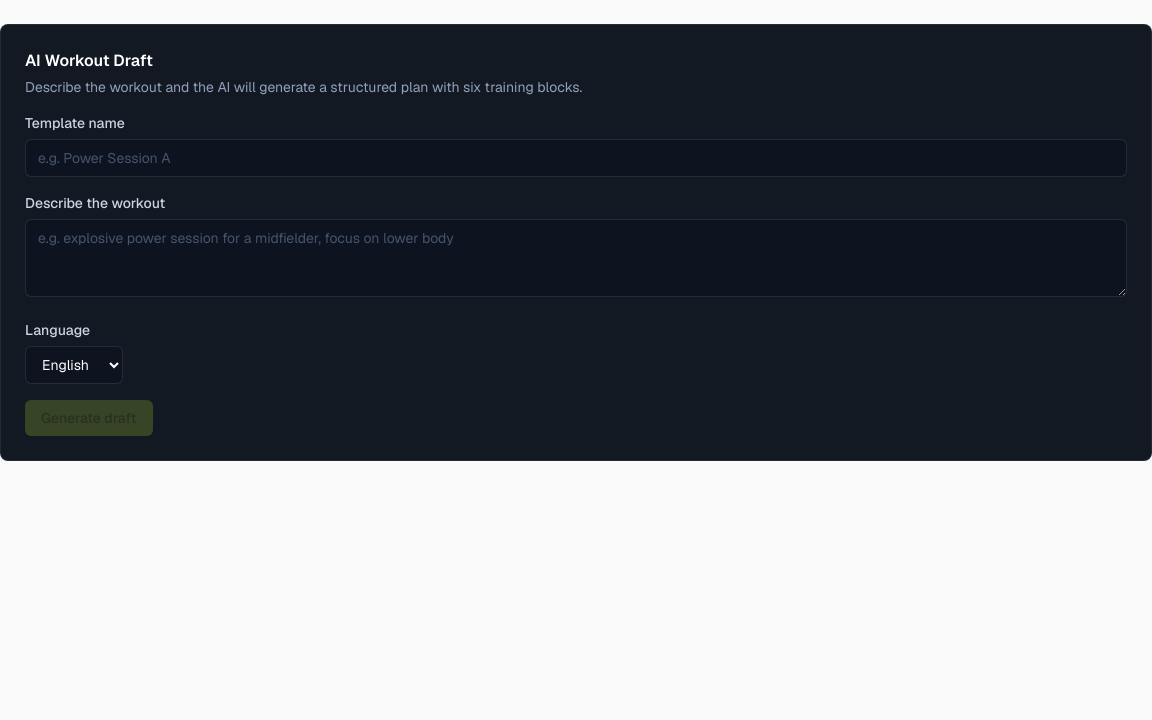
AiDraftPanel — draft happy path › shows a Confirm & Save button after a draft is generated
The image size is (1152, 720).
In the field labelled "Template name": (576, 158) [25,139,1127,177], type "Power Session A"
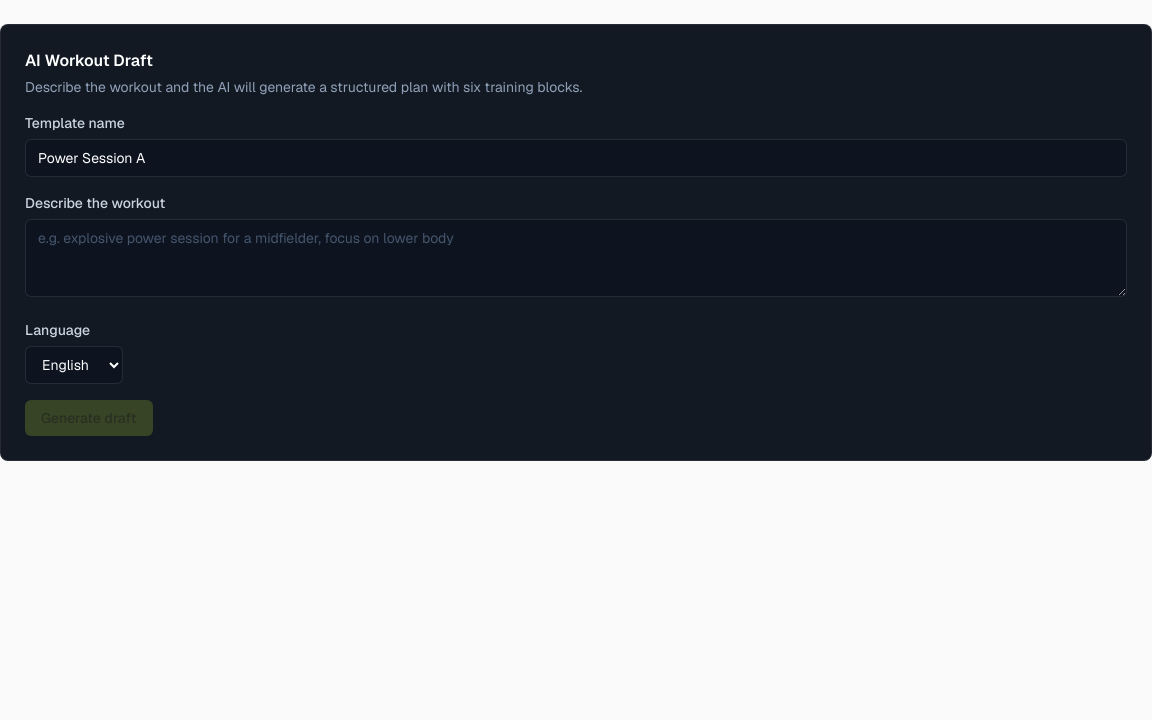
Replace the text in the text box labelled "Describe the workout" with "explosive power session": (576, 258) [25,219,1127,297]
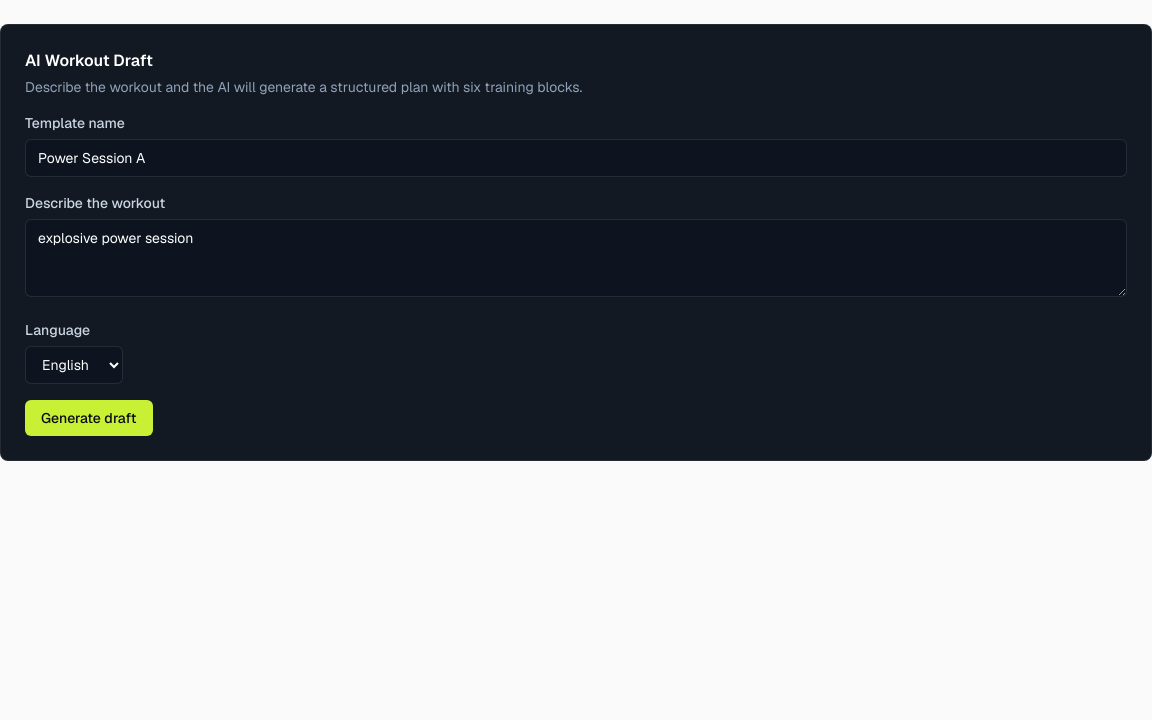
Click the button "Generate draft": (89, 418) [25,400,153,436]
(page scrolled)
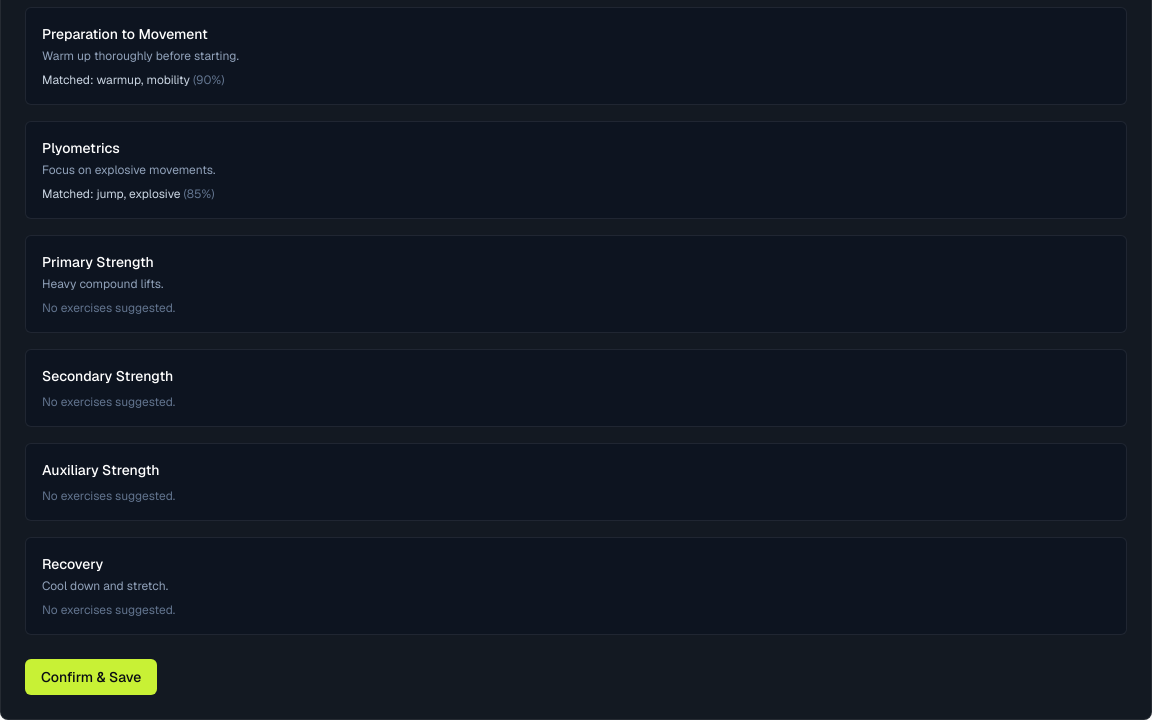
Result: the button "Confirm & Save" is shown at [25,659,157,695]
